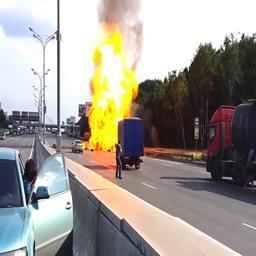fire: (85, 22, 137, 151)
